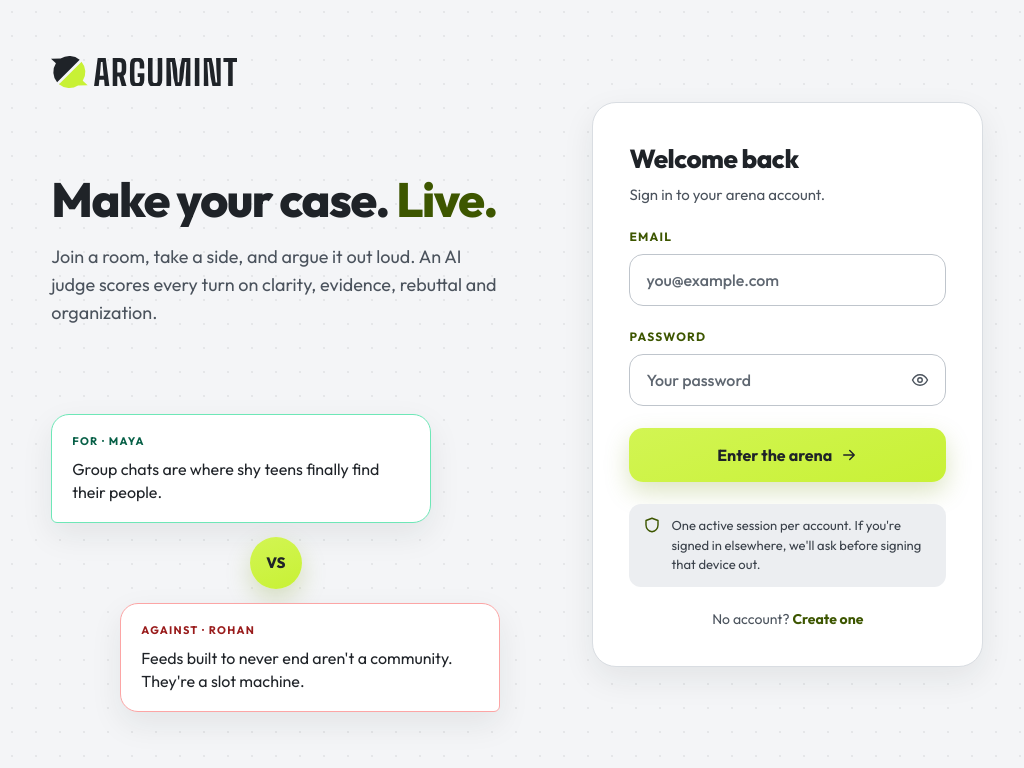
Test: Login › form validation › shows 'Email is required' when email is blank
In the password field with placeholder "Your password": (788, 380) [630,354,946,406], type "mypassword"
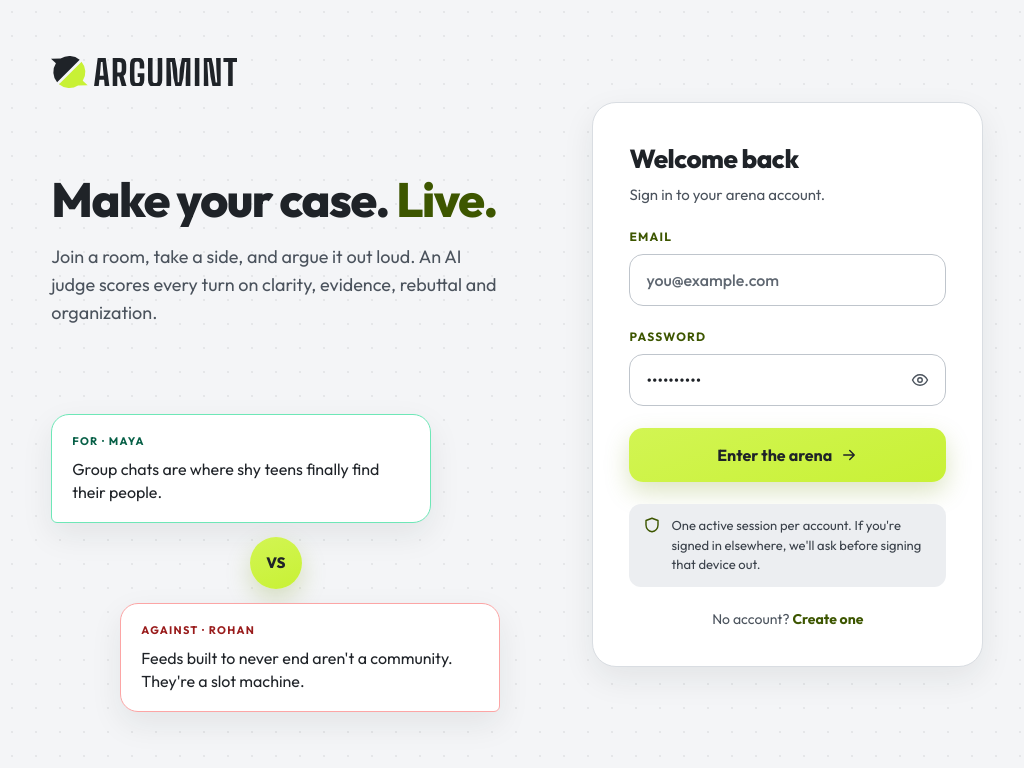
Click the button "Enter the arena": (788, 455) [630,428,946,482]
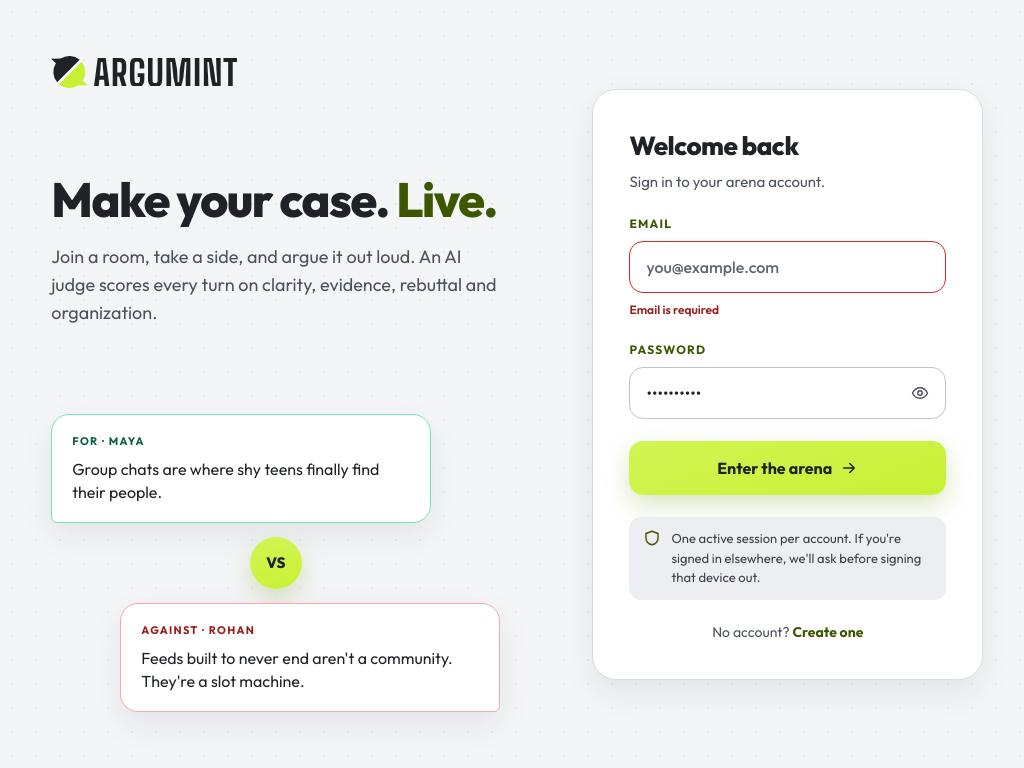
Check: the text "Email is required" is shown, box [630,302,719,317]
